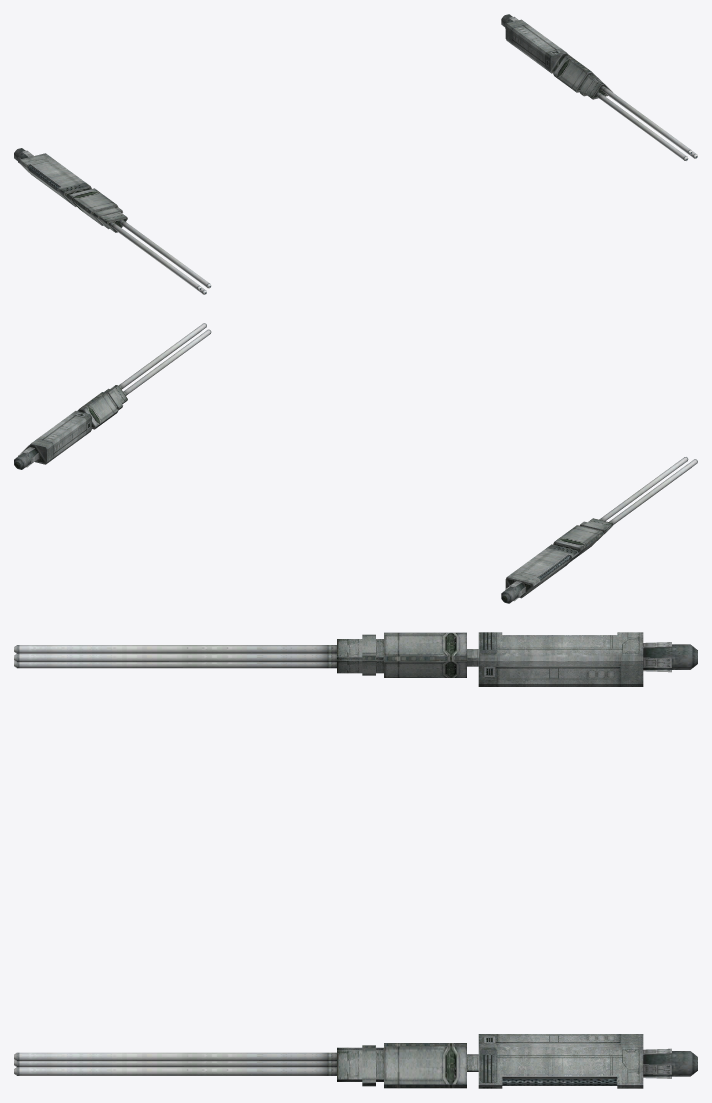
File: xwing_weapon1_neg_s04_l0.fbx
3 views of the same model, one above another, from view 1: azimuth 30°, elevation 25°; view 2: azimuth 150°, elevation 25°; view 3: azimuth 270°, elevation 25° (orthographic). The views are drawn at different scales.
Parts seen in each view (by area): view 1: mesh_node; view 2: mesh_node; view 3: mesh_node.
Boxes of the visible parts, box(x1,y1,x2,y2) form: mesh_node: box(14, 14, 697, 294); mesh_node: box(14, 323, 697, 603); mesh_node: box(14, 632, 697, 1088).
Size of the model in its own units: 14.51 by 0.9404 by 9.14.
